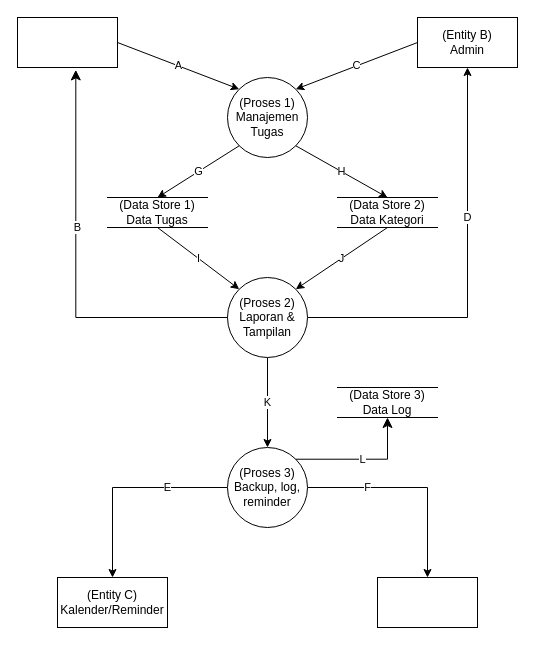
The diagram is 535 pixels wide and 645 high, and some of its shapes have lost their labels. The shapes that lost their labels are listed below. From the top down, each one's box as (x1, y1, x2, y2) in pixels, then its label:
(16, 16, 118, 68): (Entity A) Pengguna
(376, 576, 478, 628): (Entity D) System Backup
